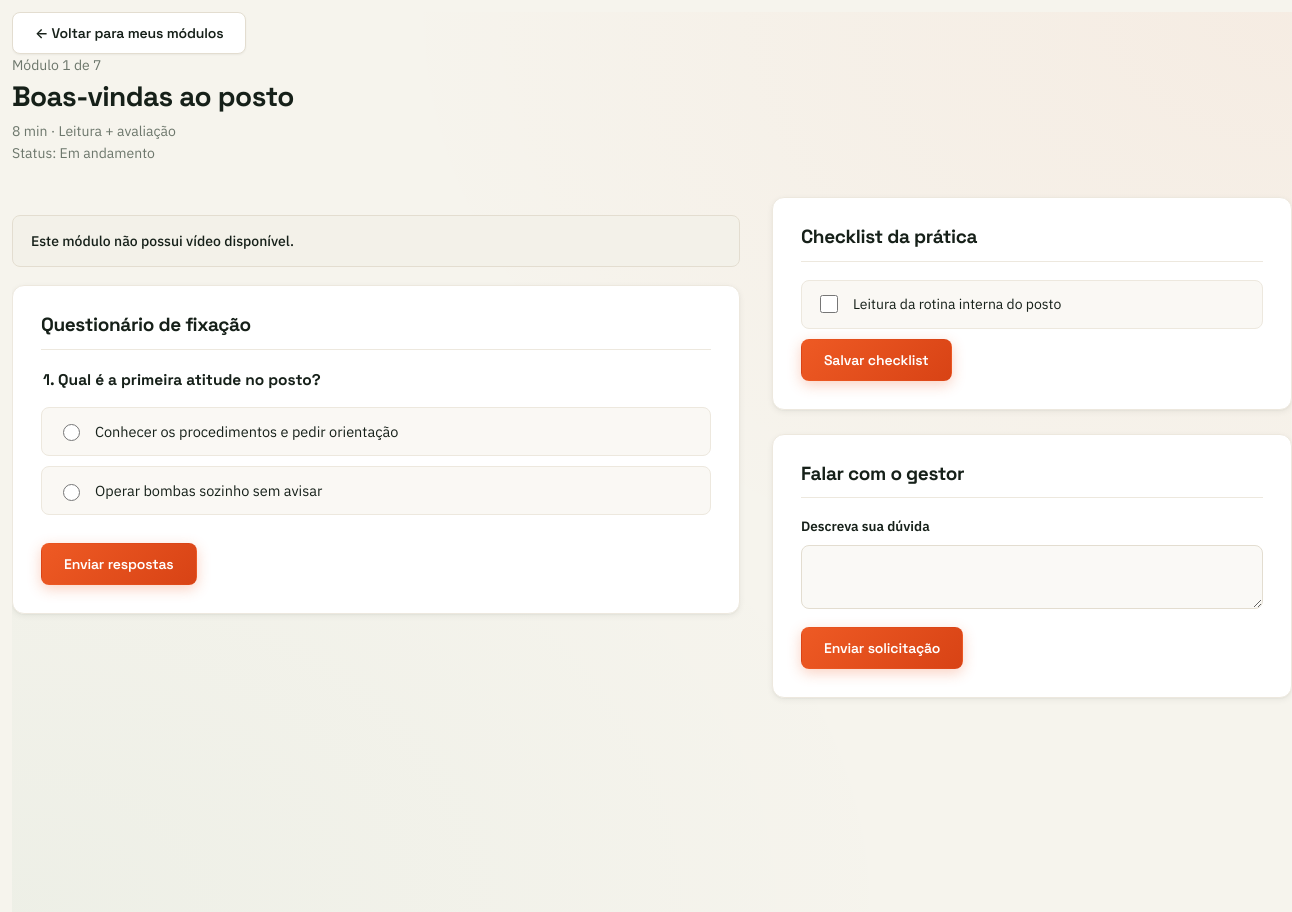
it: ModuloInterno Component › permite enviar dúvida ao gestor
Expected: the heading "Falar com o gestor" is shown, [801,463,1263,498]
Type "Como funciona a conferência do fechamento?" into the text box labelled "Descreva sua dúvida" at (1032, 577), box [801,545,1263,609]
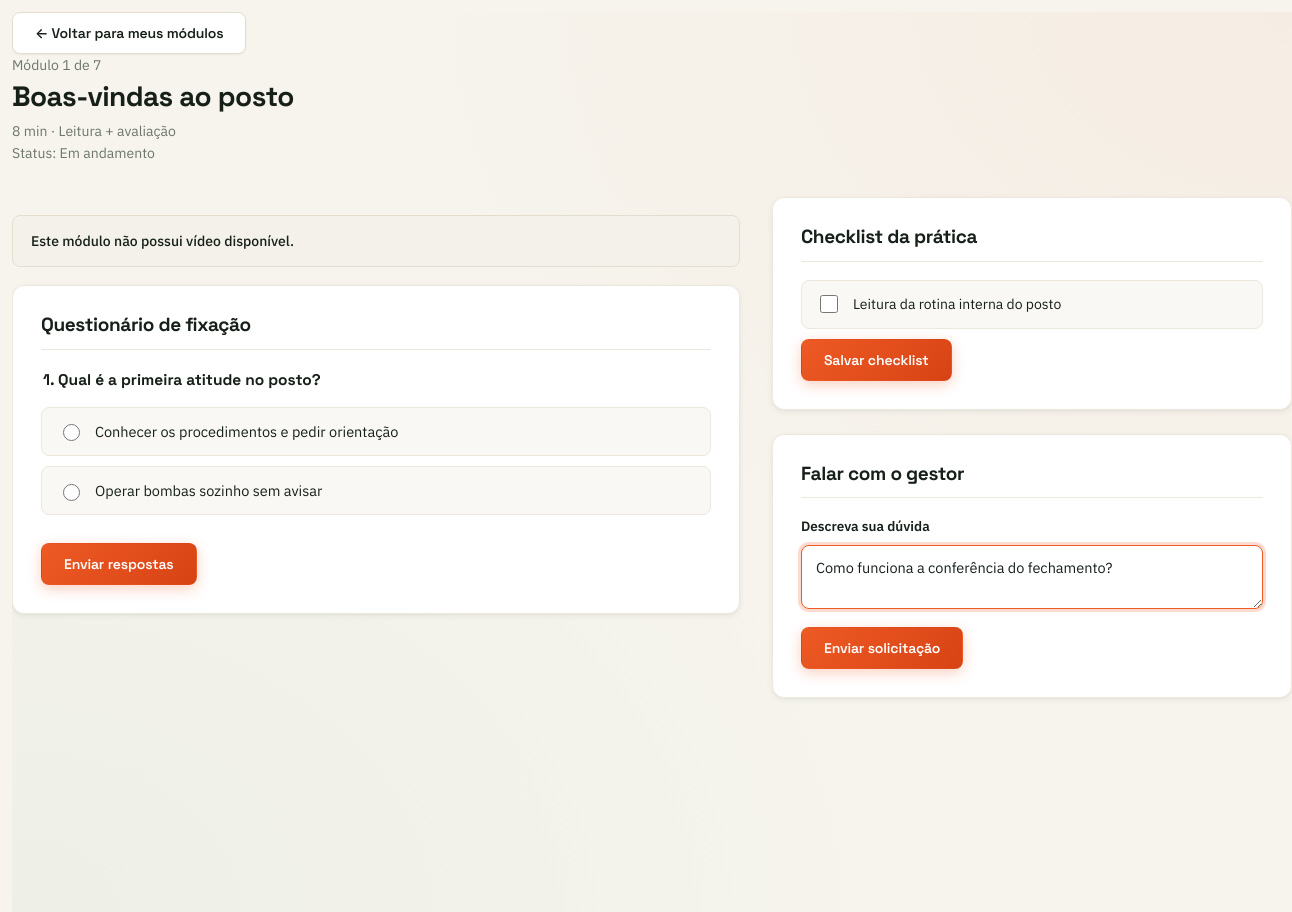
Click the button "Enviar solicitação" at (882, 648), box [801,627,963,669]
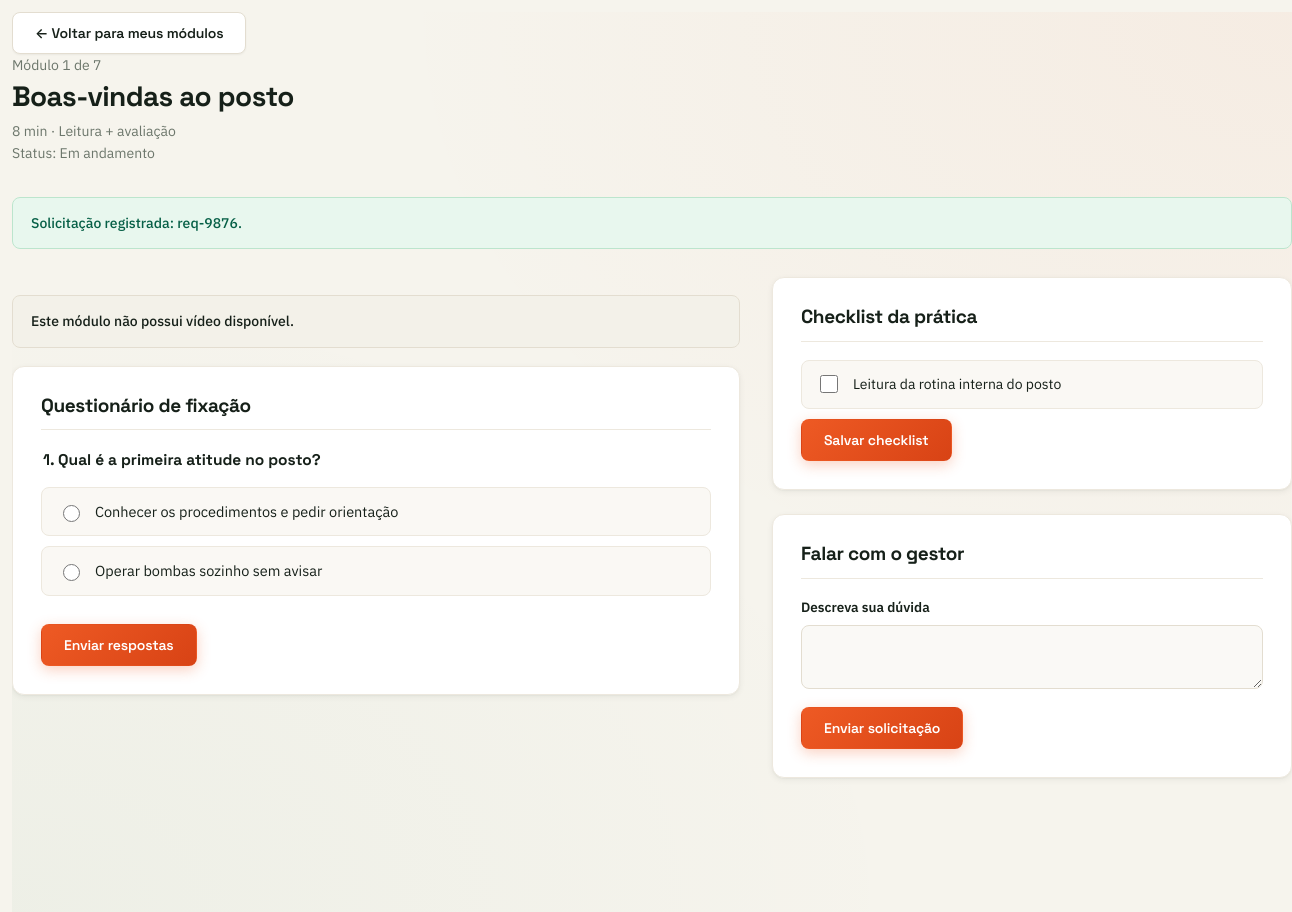
Expected: the message shows "Solicitação registrada: req-9876", [31,214,242,232]
Expected: the text box labelled "Descreva sua dúvida" is empty, [801,625,1263,689]
